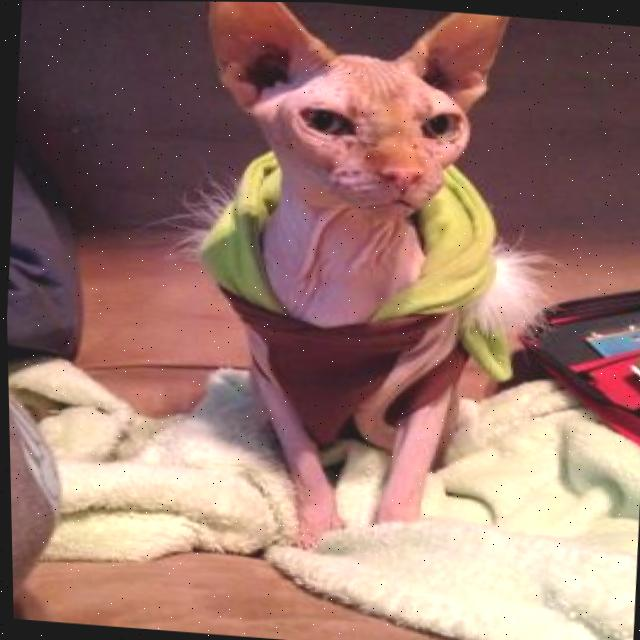Sphynx: (158, 1, 536, 575)
